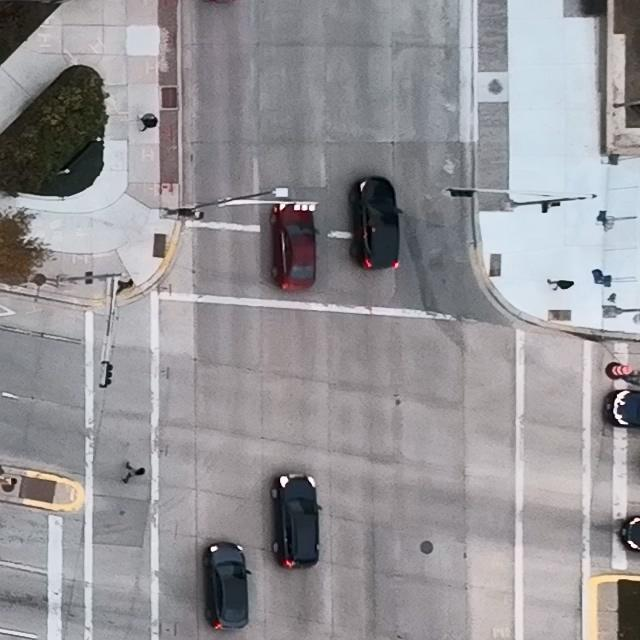car: (269, 472, 323, 568), (349, 177, 402, 269), (268, 200, 319, 291), (202, 543, 252, 630), (603, 388, 640, 428), (620, 514, 640, 552)
